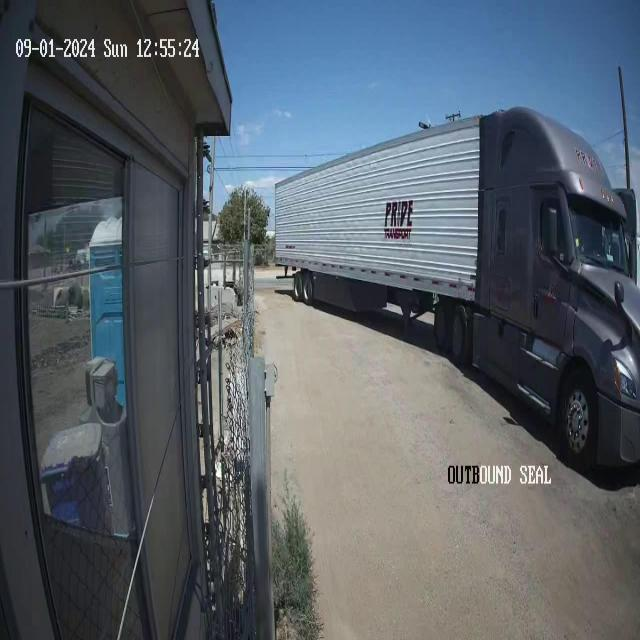TRUCK_IN: (273, 93, 639, 474)
